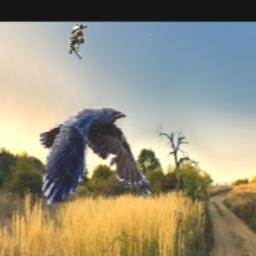Crow: (40, 106, 151, 205)
Woodpecker: (68, 25, 89, 61)
